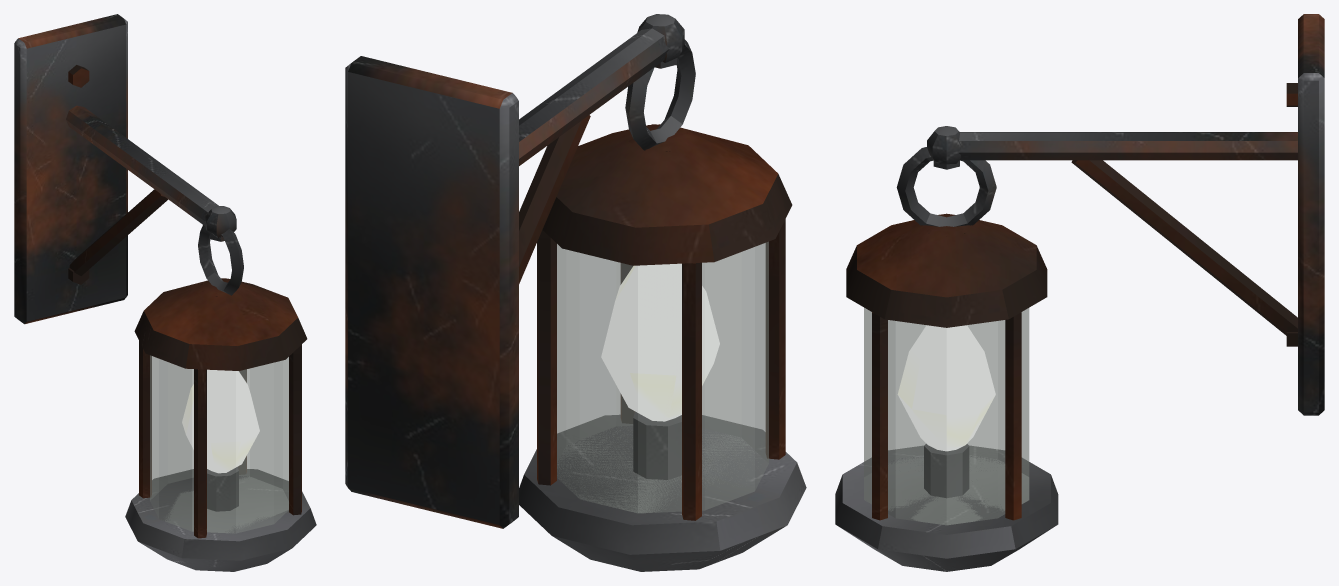
The model's file is light_lantern_hook.glb.
3 renders of one model, left to right at view 1: azimuth 30°, elevation 25°; view 2: azimuth 150°, elevation 25°; view 3: azimuth 270°, elevation 25°, orthographic. The views are drawn at different scales.
Visible parts, largest first — view 1: Body, Rust, Glass, Bulb; view 2: Body, Glass, Rust, Bulb; view 3: Body, Rust, Glass, Bulb.
Part boxes in pixels (bbox=[...]): Body: bbox=[14, 14, 316, 571]; Rust: bbox=[68, 65, 307, 538]; Glass: bbox=[150, 355, 288, 533]; Bulb: bbox=[182, 369, 259, 473]; Body: bbox=[345, 14, 806, 571]; Glass: bbox=[557, 241, 768, 513]; Rust: bbox=[519, 115, 792, 520]; Bulb: bbox=[601, 263, 719, 421]; Body: bbox=[835, 14, 1324, 571]; Rust: bbox=[846, 83, 1297, 520]; Glass: bbox=[864, 308, 1029, 525]; Bulb: bbox=[897, 325, 995, 451].
Bounding box in the file's own units: 0.124 × 0.29 × 0.259.
Materials: 4 (2 with a texture image).
